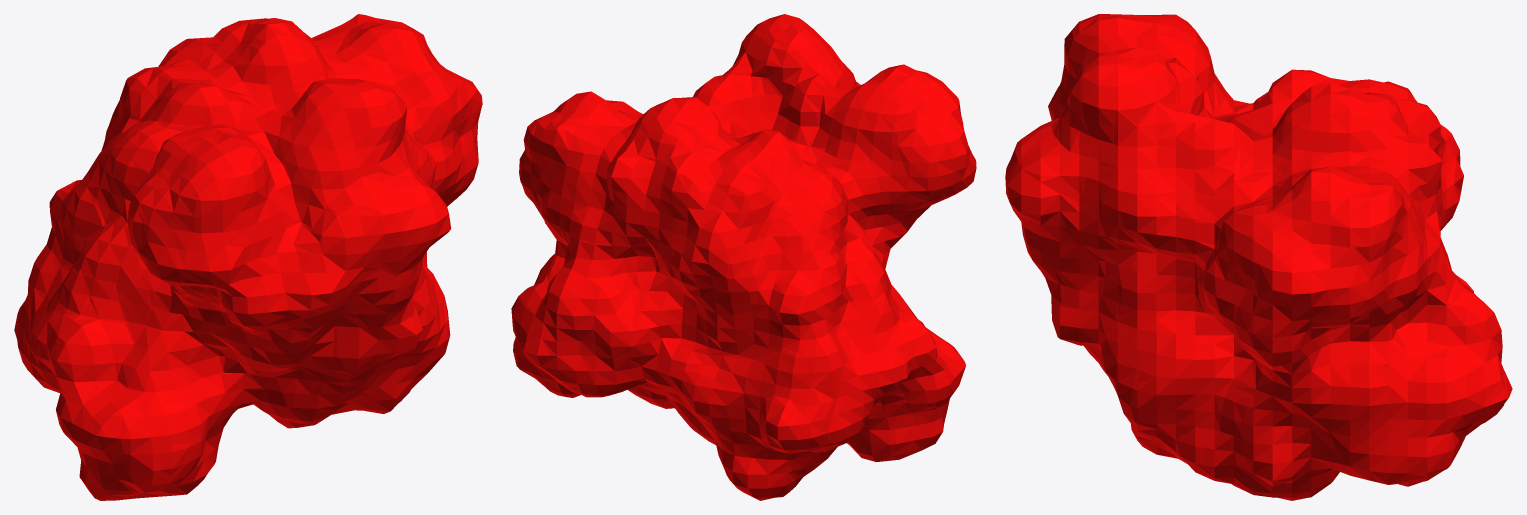
File: aceE_coarse.dae
The picture shows the model from 3 angles, left to right: view 1: azimuth 30°, elevation 25°; view 2: azimuth 150°, elevation 25°; view 3: azimuth 270°, elevation 25°; orthographic projection. The views are drawn at different scales.
Visible parts, largest first — view 1: aceE; view 2: aceE; view 3: aceE.
Part boxes in pixels (x1,y1,x2,y2): aceE: (14,14,482,500); aceE: (511,14,976,500); aceE: (1005,14,1512,500).
Size of the model in its own units: 101 by 89.93 by 93.48.
